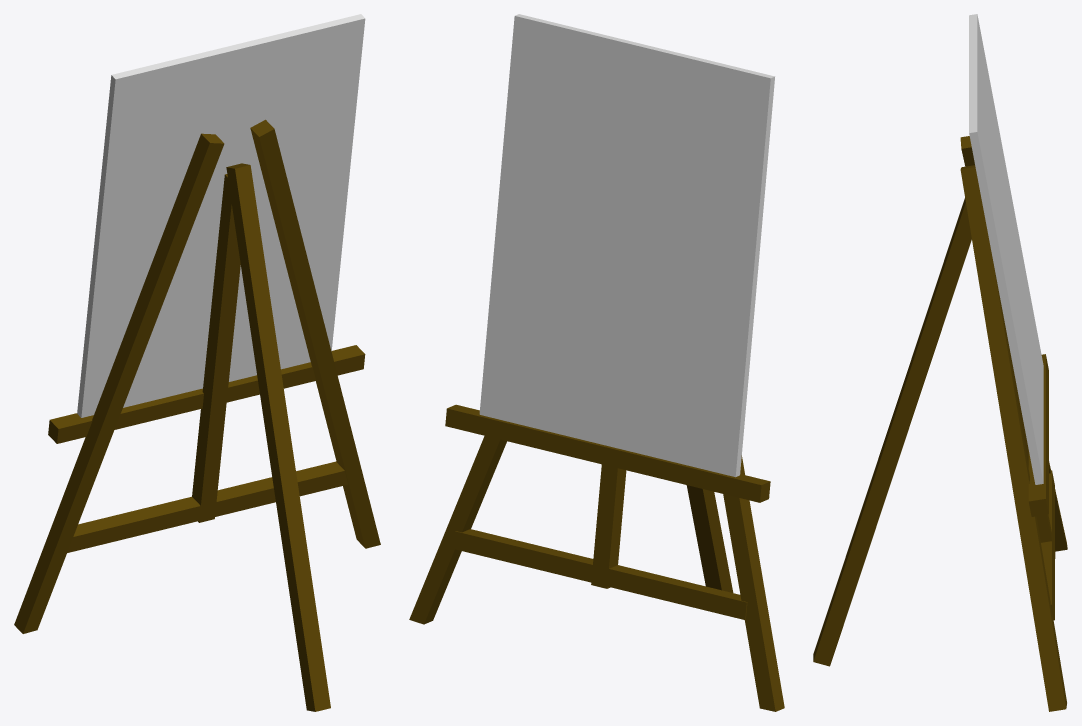
The model's file is easel2.fbx.
The picture shows the model from 3 angles, left to right: view 1: azimuth 30°, elevation 25°; view 2: azimuth 150°, elevation 25°; view 3: azimuth 270°, elevation 25°; orthographic projection. The views are drawn at different scales.
Visible parts, largest first — view 1: polySurface73; view 2: polySurface73; view 3: polySurface73.
Boxes of the visible parts, box(x1,y1,x2,y2) form: polySurface73: box(14, 14, 380, 711); polySurface73: box(409, 14, 784, 711); polySurface73: box(813, 14, 1067, 711).
Size of the model in its own units: 134 by 218 by 85.32.
